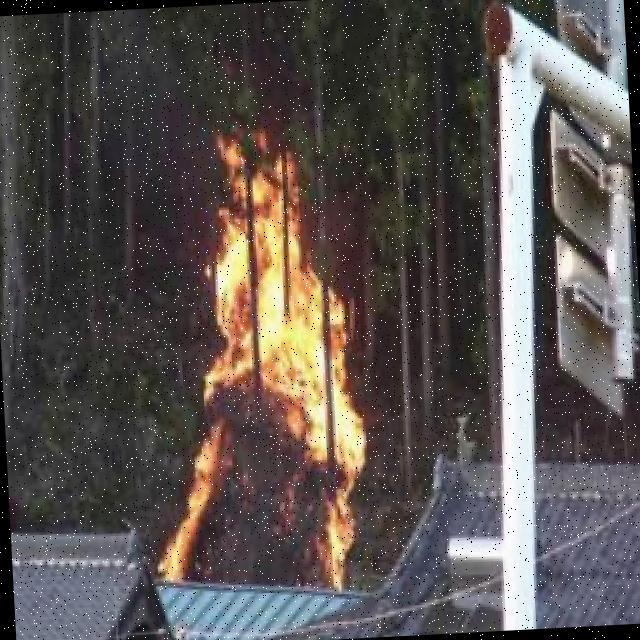Fire: (142, 124, 368, 598)
